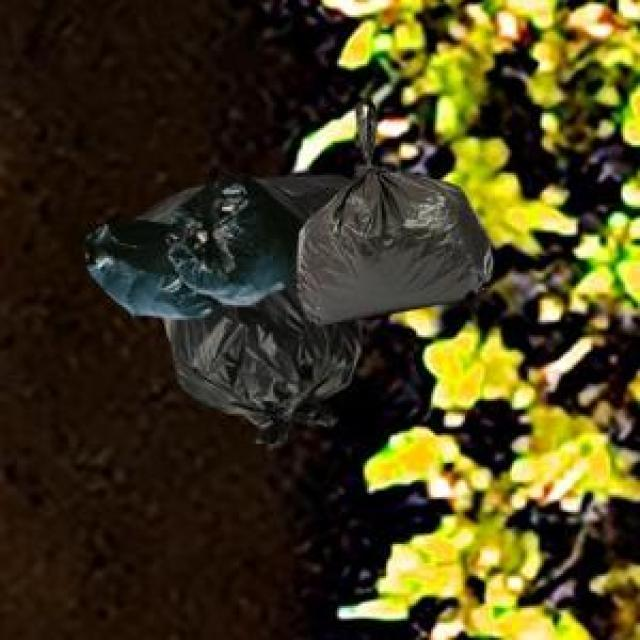waste: (156, 174, 367, 440), (300, 104, 496, 308)
